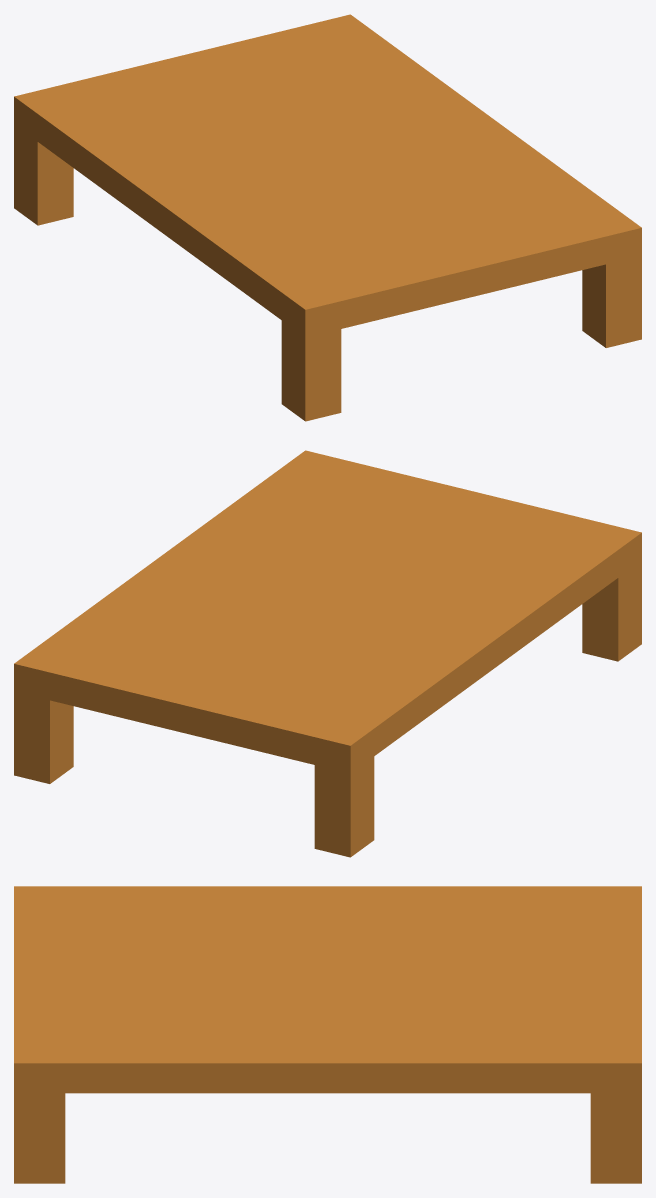
File: japan_table.fbx
3 views of the same model, one above another, from view 1: azimuth 30°, elevation 25°; view 2: azimuth 150°, elevation 25°; view 3: azimuth 270°, elevation 25° (orthographic). The views are drawn at different scales.
Parts seen in each view (by area): view 1: table; view 2: table; view 3: table.
Boxes of the visible parts, x1,y1,x2,y2 form: table: (14,14,641,421); table: (14,450,641,857); table: (14,886,641,1183).
Size of the model in its own units: 100 by 31.72 by 150.
